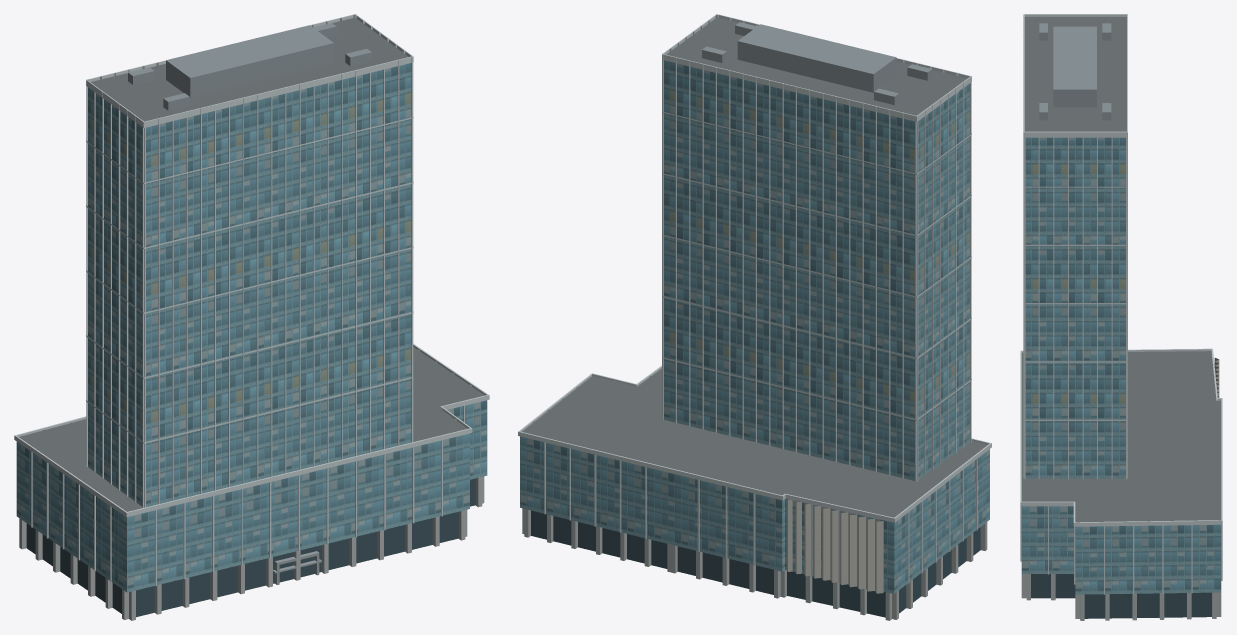
The model's file is intercontinental_sf.glb.
3 renders of one model, left to right at view 1: azimuth 30°, elevation 25°; view 2: azimuth 150°, elevation 25°; view 3: azimuth 270°, elevation 25°, orthographic. The views are drawn at different scales.
Visible parts, largest first — view 1: intercontinental_sf; view 2: intercontinental_sf; view 3: intercontinental_sf.
Part boxes in pixels (bbox=[...]): intercontinental_sf: bbox=[14, 14, 489, 620]; intercontinental_sf: bbox=[518, 14, 991, 620]; intercontinental_sf: bbox=[1020, 14, 1222, 620].
Size of the model in its own units: 84.61 by 104 by 41.59.
Materials: 2 (2 with a texture image).
